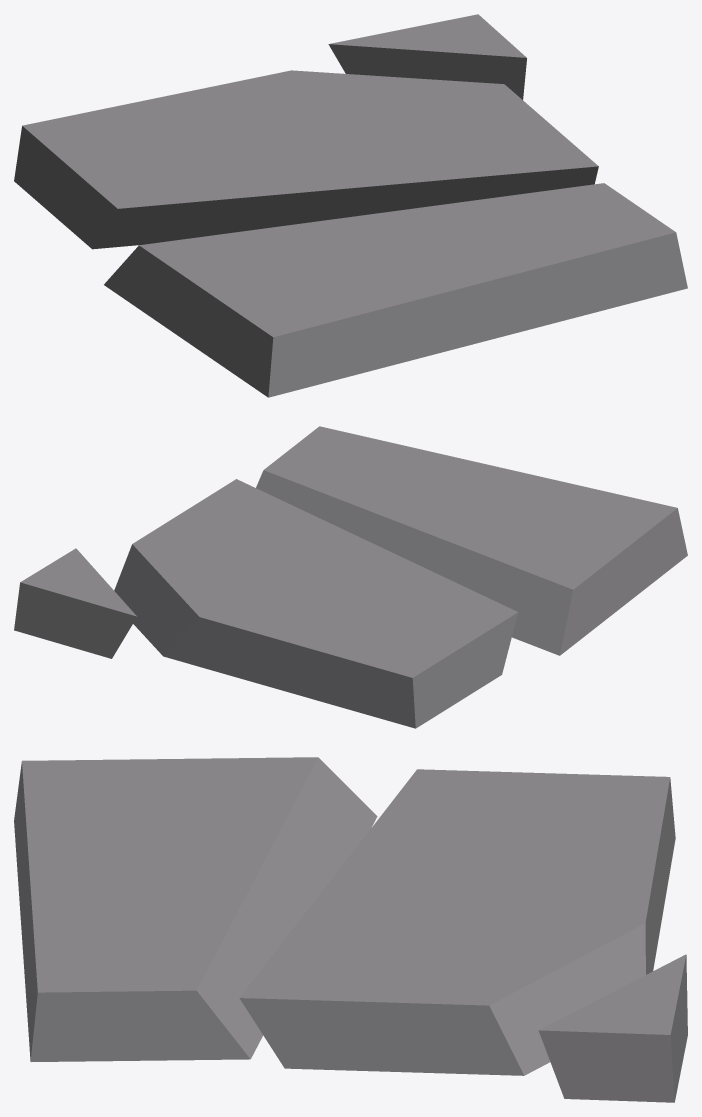
File: Rock_Tile_crk_m_05.fbx
3 renders of one model, top to bottom at view 1: azimuth 30°, elevation 25°; view 2: azimuth 150°, elevation 25°; view 3: azimuth 270°, elevation 25°, orthographic. The views are drawn at different scales.
Visible parts, largest first — view 1: Rock_Tile_crk_m_05; view 2: Rock_Tile_crk_m_05; view 3: Rock_Tile_crk_m_05.
Part boxes in pixels (bbox=[...]): Rock_Tile_crk_m_05: bbox=[14, 14, 687, 397]; Rock_Tile_crk_m_05: bbox=[14, 426, 687, 728]; Rock_Tile_crk_m_05: bbox=[14, 757, 687, 1102].
Size of the model in its own units: 47.45 by 5 by 47.19.
